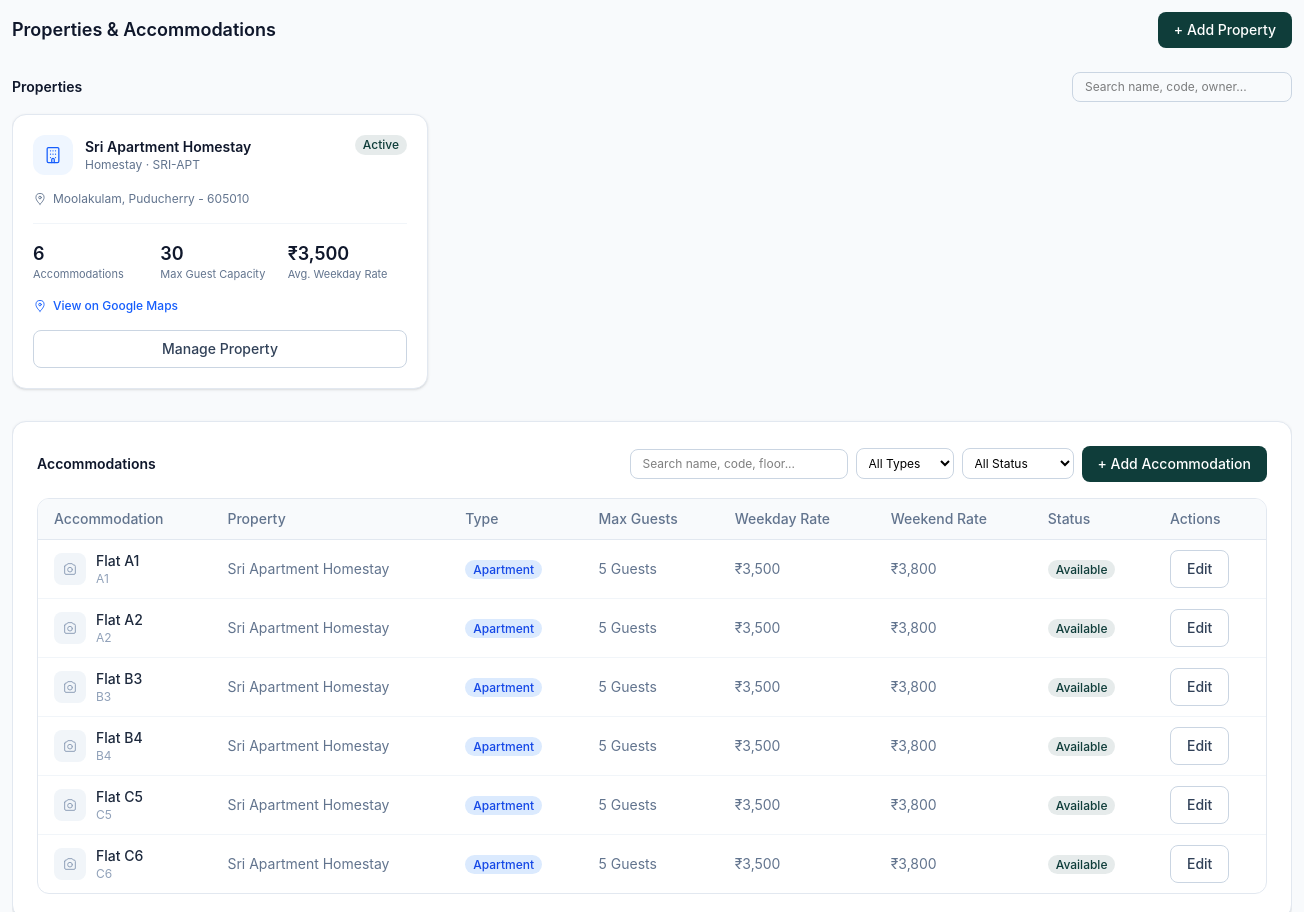
Test case: PropertiesPage — UI polish › search still narrows the accommodation table
The width and height of the screenshot is (1304, 912).
Expected: the text "Flat A1" is shown, [96,551,139,571]
Type "B3" into the field with placeholder "Search name, code, floor...". click: x=738, y=464
box: [630,449,848,479]
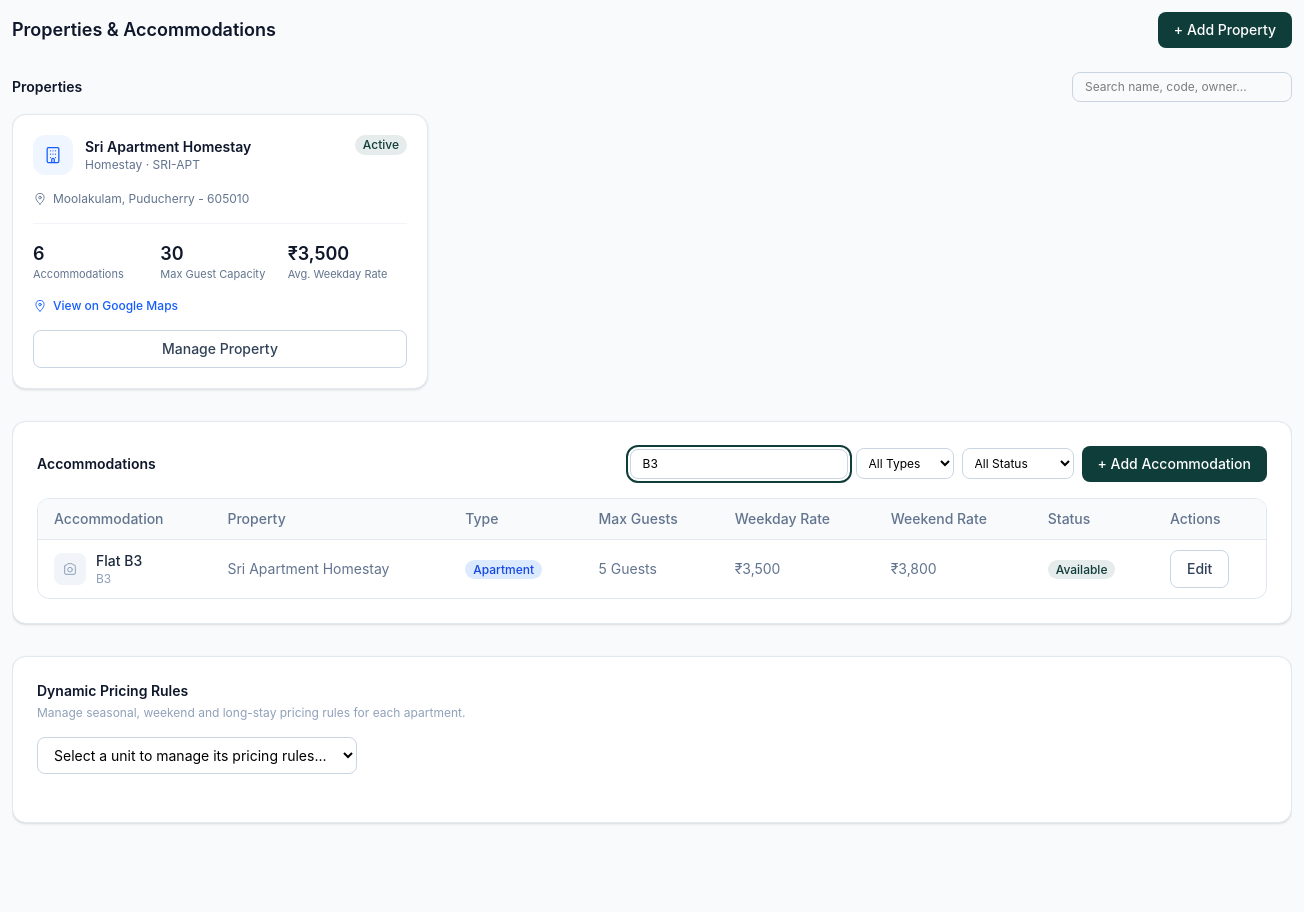
Expected: the text "Flat B3" is shown, [96,551,142,571]
Expected: the text "Flat A1" is gone
